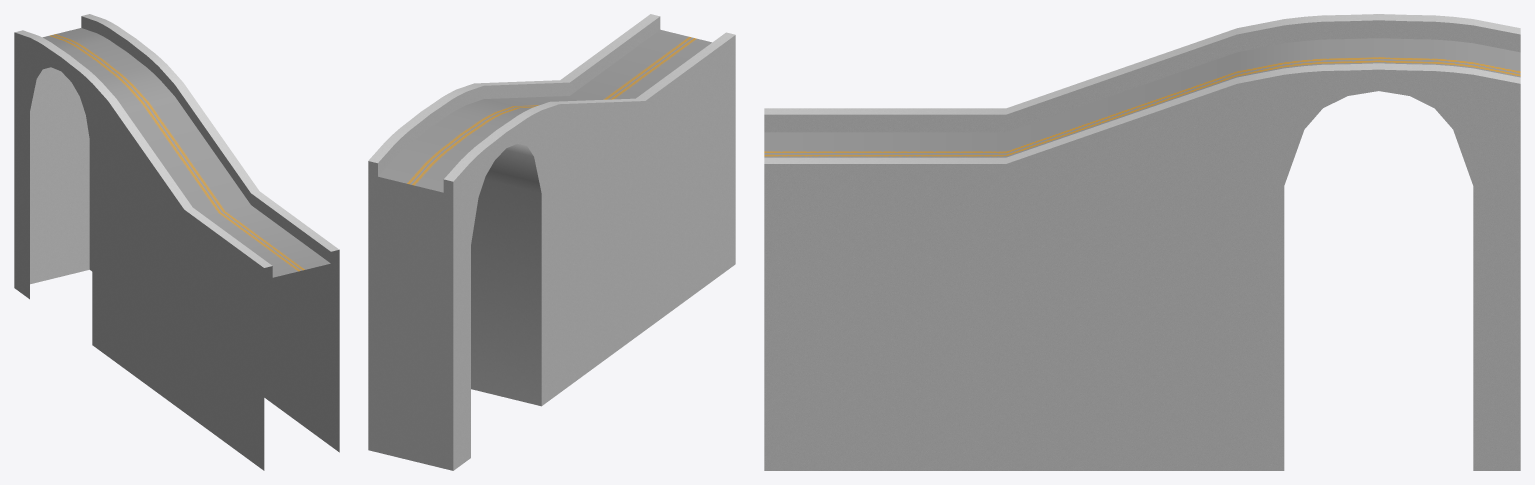
File: Viaduct.FBX
3 renders of one model, left to right at view 1: azimuth 30°, elevation 25°; view 2: azimuth 150°, elevation 25°; view 3: azimuth 270°, elevation 25°, orthographic. The views are drawn at different scales.
Visible parts, largest first — view 1: Viaduct, Viaduct_asphalt; view 2: Viaduct, Viaduct_asphalt; view 3: Viaduct, Viaduct_asphalt.
Boxes of the visible parts, x1,y1,x2,y2 form: Viaduct: [14, 14, 339, 470]; Viaduct_asphalt: [42, 28, 330, 277]; Viaduct: [368, 14, 735, 470]; Viaduct_asphalt: [378, 29, 711, 192]; Viaduct: [764, 14, 1520, 470]; Viaduct_asphalt: [764, 38, 1520, 157].
Bounding box in the file's own units: 27.86 × 93.71 × 160.
